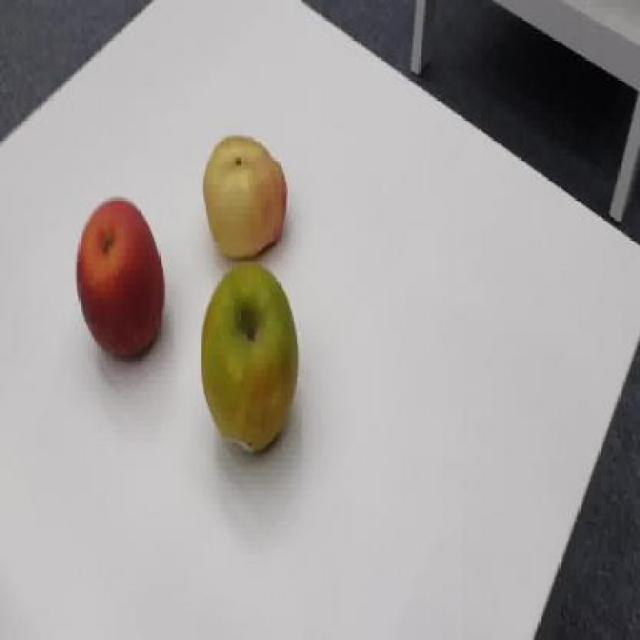Fresh Apple: (195, 266, 302, 459), (65, 200, 169, 349), (193, 133, 294, 260)
